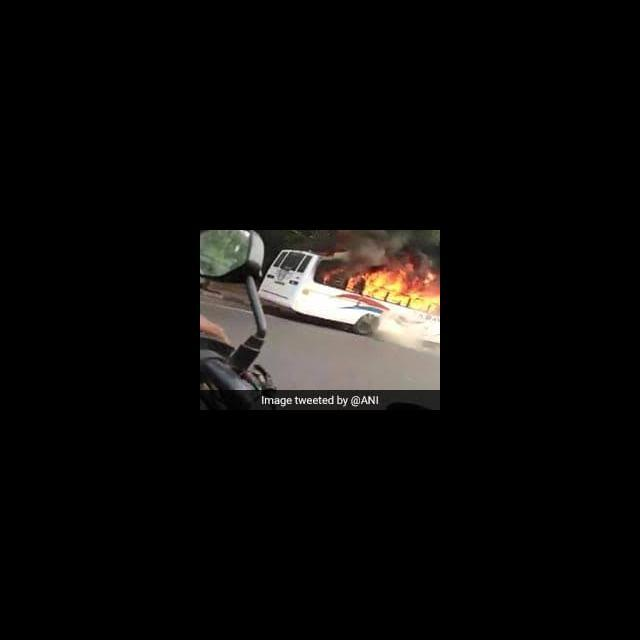Fire: (346, 266, 440, 316)
Smoke: (382, 318, 430, 351), (344, 236, 386, 264)
